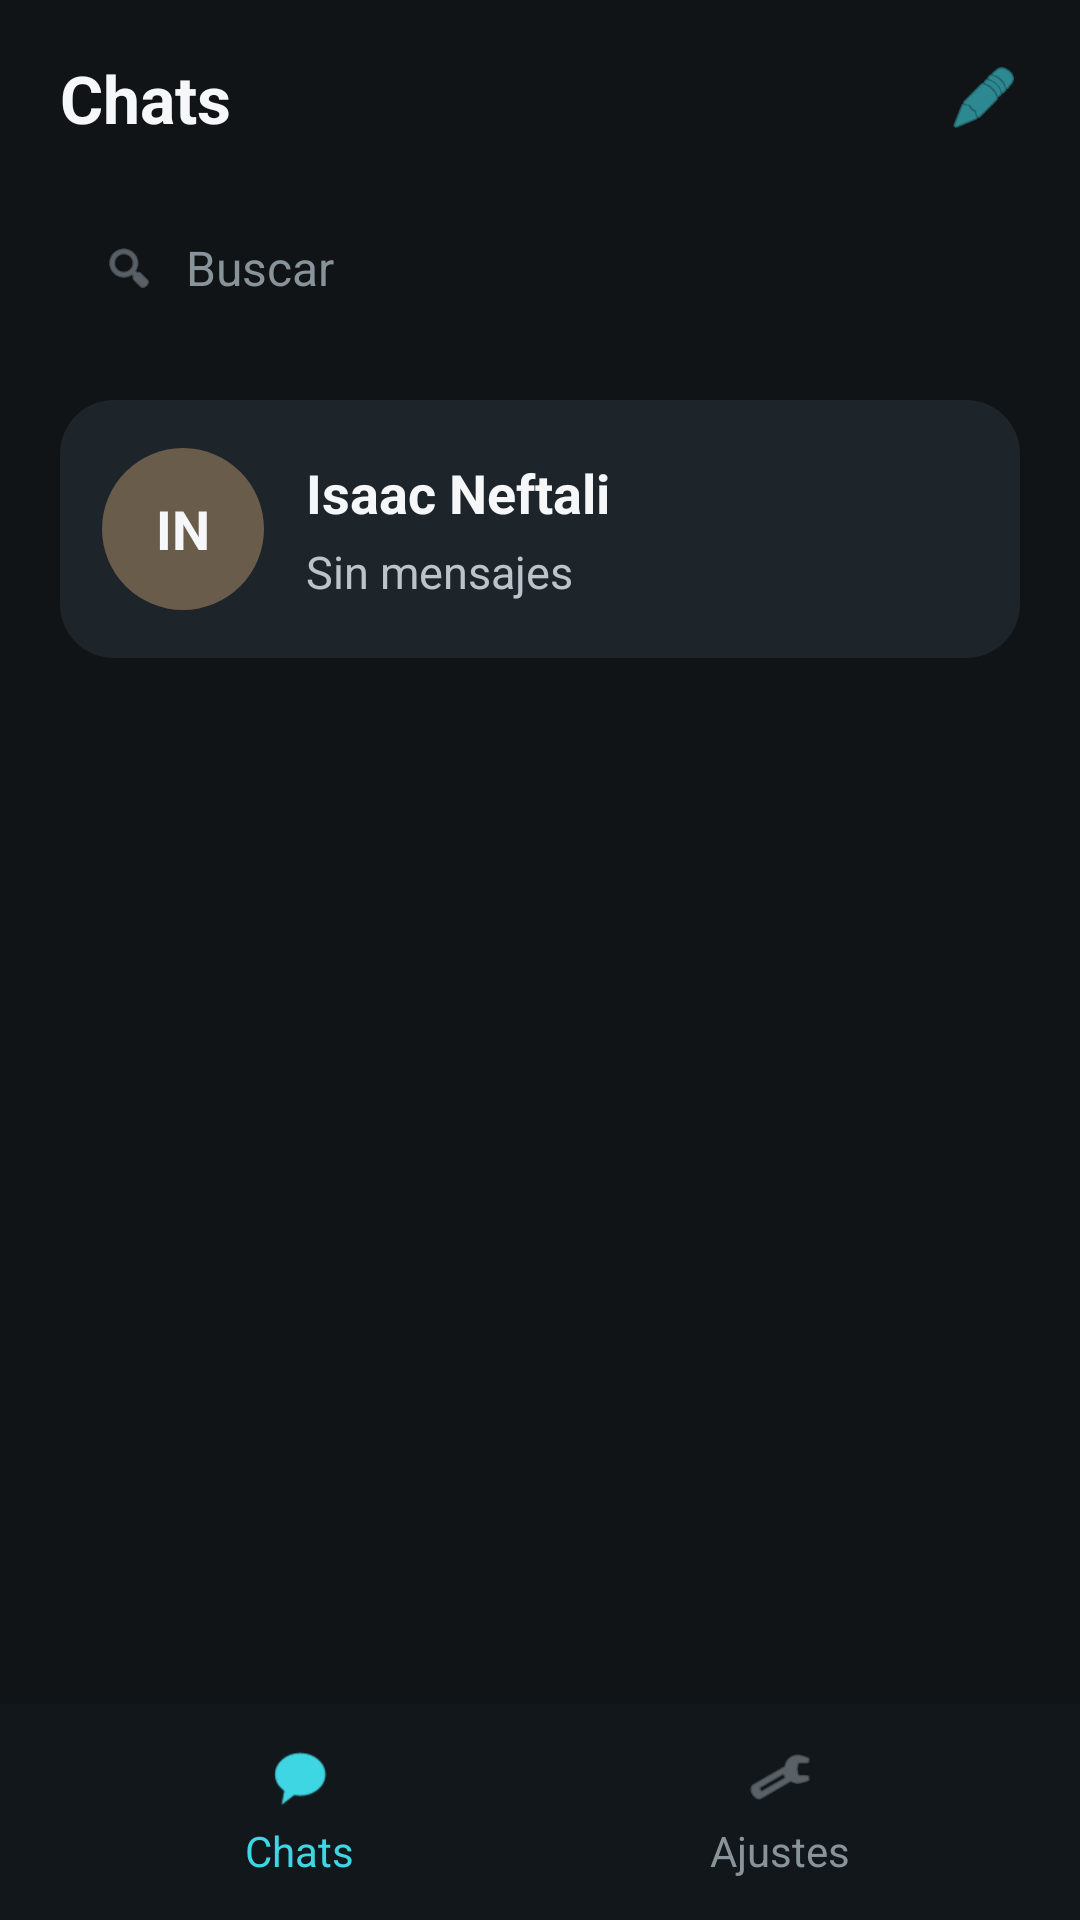

Screen size 1080w x 1920h. Icon name, then its box in pixels as BBox(x1, y1, x2, y2):
Nuevo chat: BBox(953, 67, 1014, 128)
